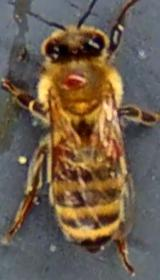varroa_mite: (62, 64, 90, 96), (100, 134, 126, 166)
